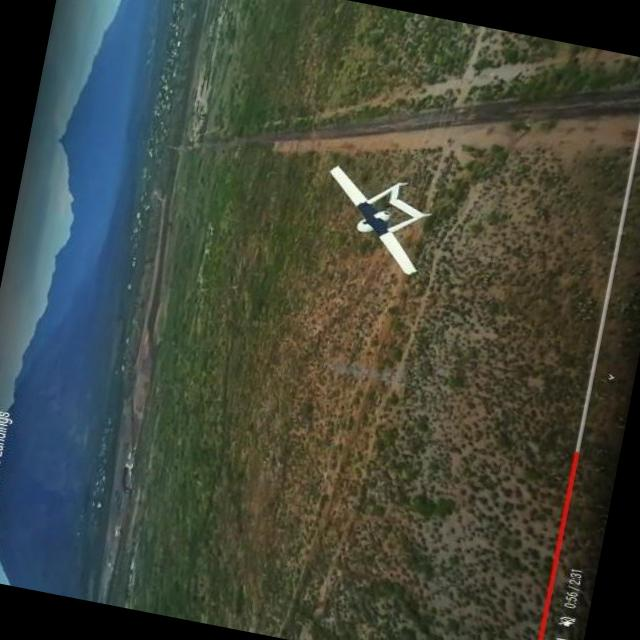UAV: (312, 142, 450, 270)
